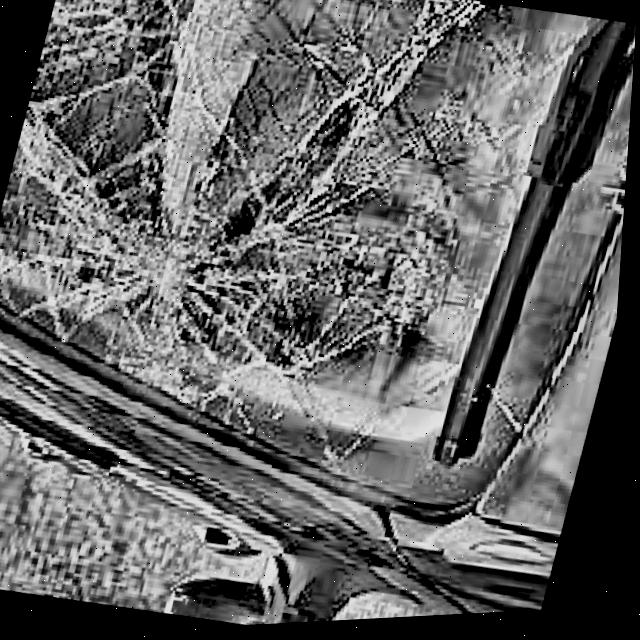glass_shatter: (0, 25, 382, 378)
